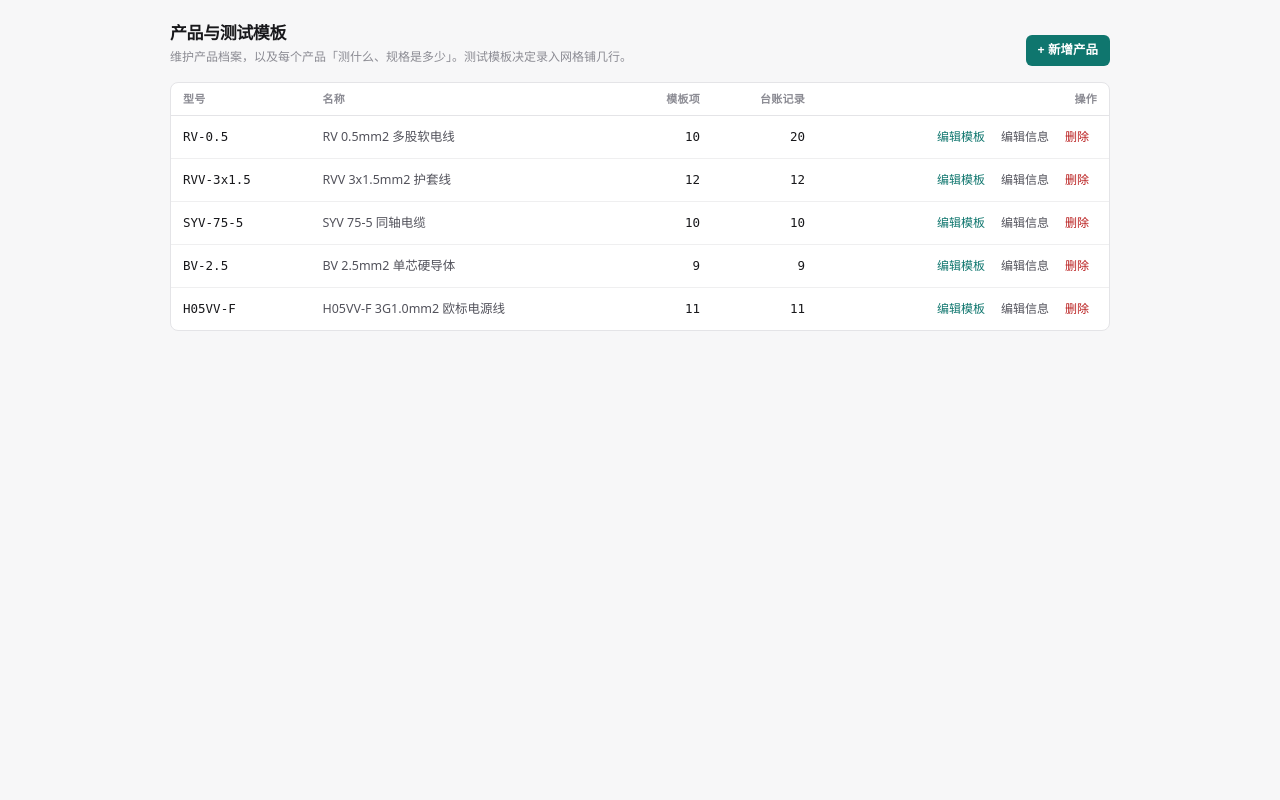
Test: 工单 05 — 产品与测试模板管理 › 删除产品前显示级联条数，确认后产品与模板、台账一并消失（无孤儿）
This screenshot has width=1280, height=800.
Click the button "删除" in the row of "H05VV-F 3G1.0mm2 欧标电源线": (1077, 309) left=1057, top=296, right=1097, bottom=322
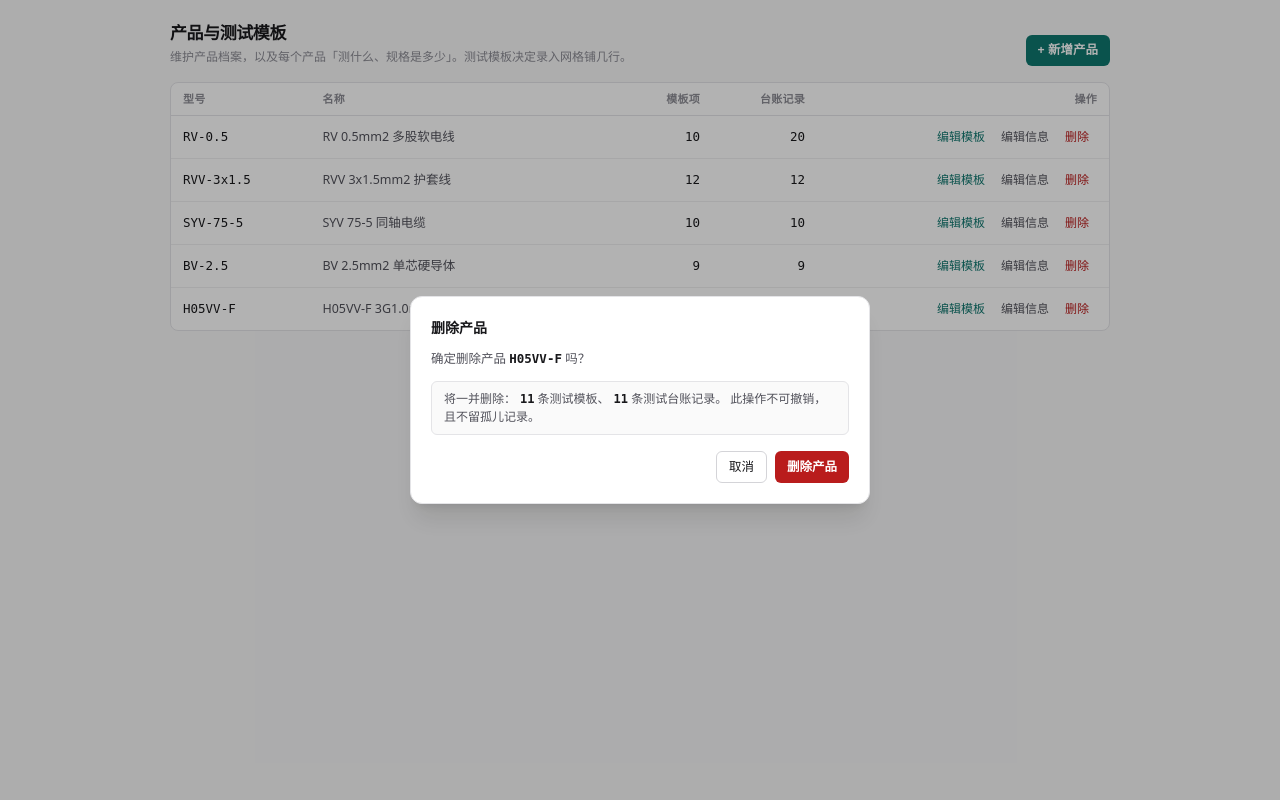
Result: the text "将一并删除：11 条测试模板、11 条测试台账记录。 此操作不可撤销，且不留孤儿记录。" is shown at left=431, top=380, right=849, bottom=434
Click the button "删除产品": (812, 467) left=775, top=450, right=849, bottom=483
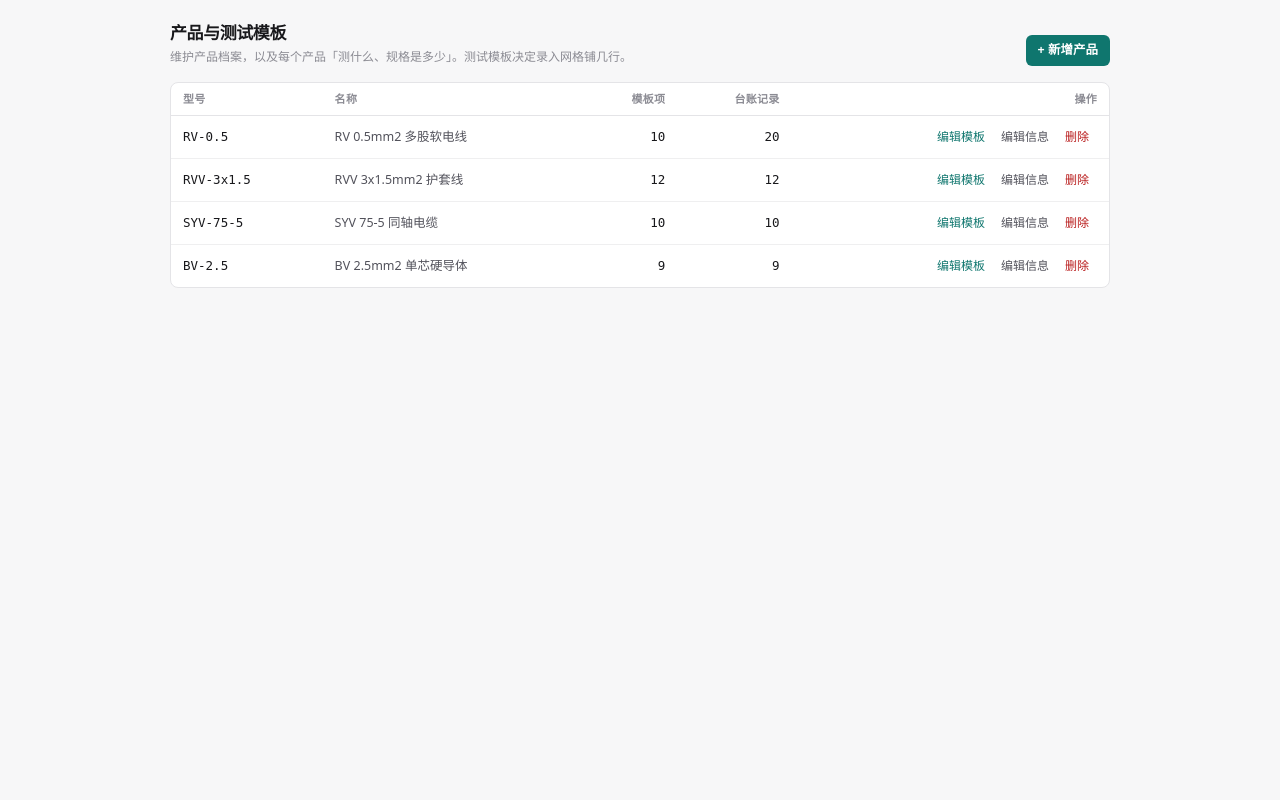
Result: the text "H05VV-F" is gone
